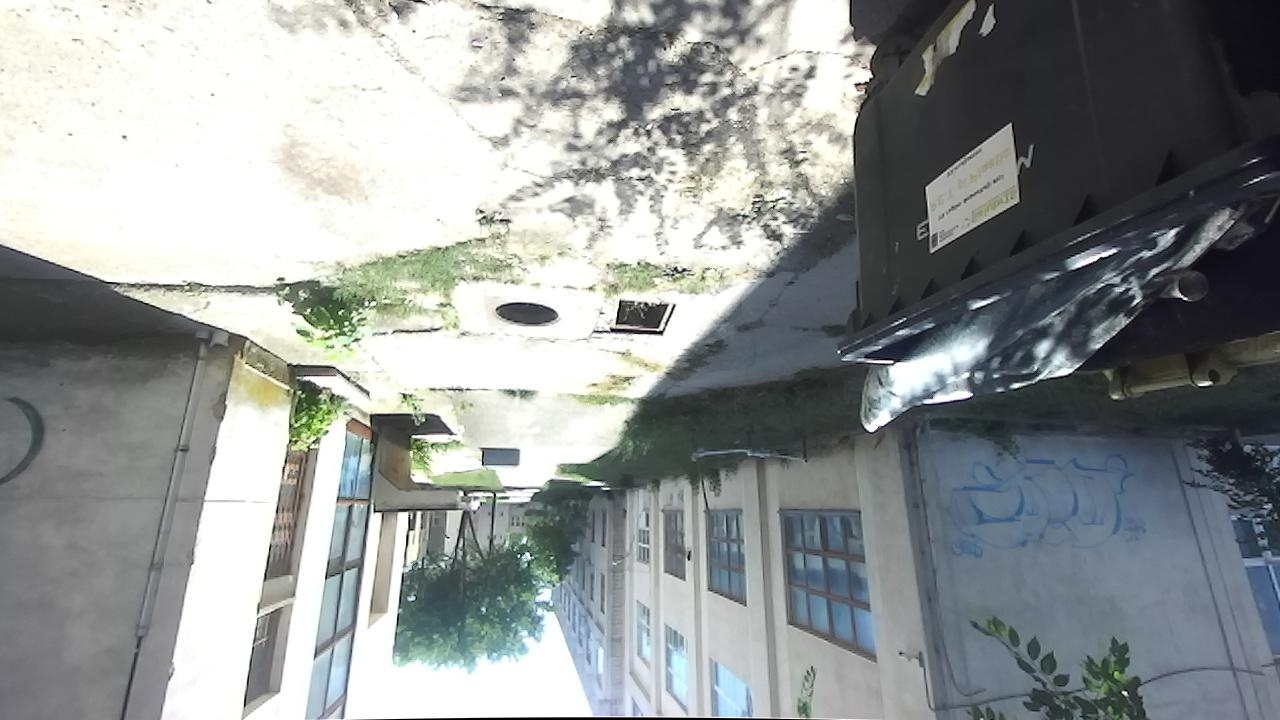drain: (605, 299, 678, 336), (490, 300, 563, 330)
